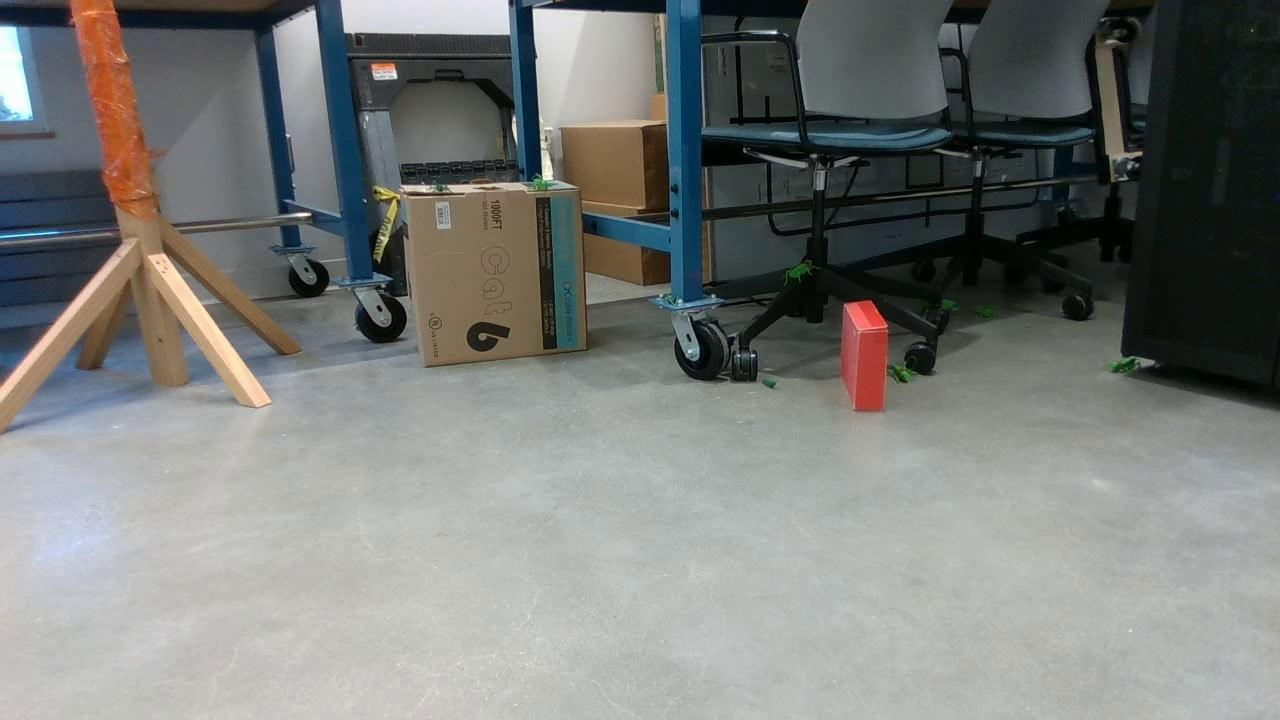grasshopper: (880, 361, 917, 389), (781, 260, 813, 287), (1106, 360, 1139, 372), (526, 177, 552, 190), (976, 309, 996, 323), (942, 301, 961, 313)
